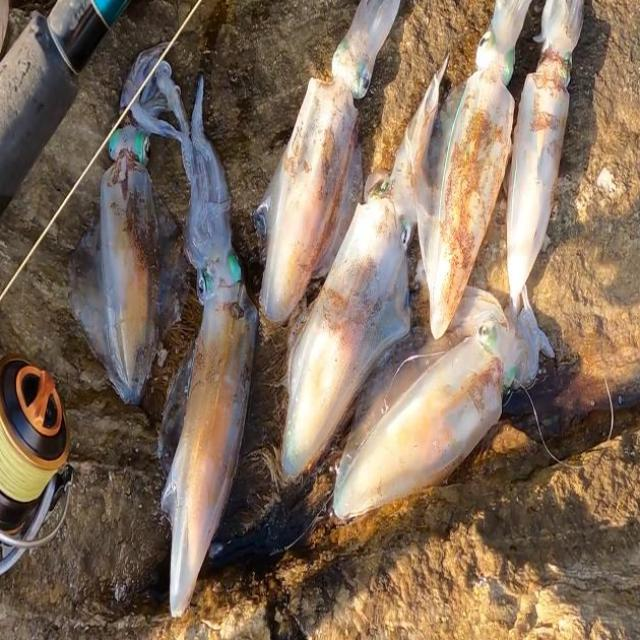SQUID: (116, 41, 256, 640), (376, 0, 530, 383), (72, 91, 176, 407), (495, 0, 599, 316)
